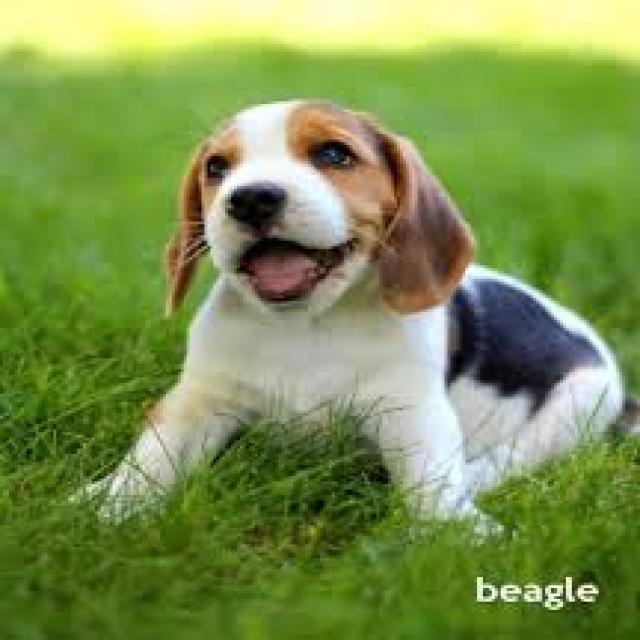Dog: (59, 90, 640, 547)
